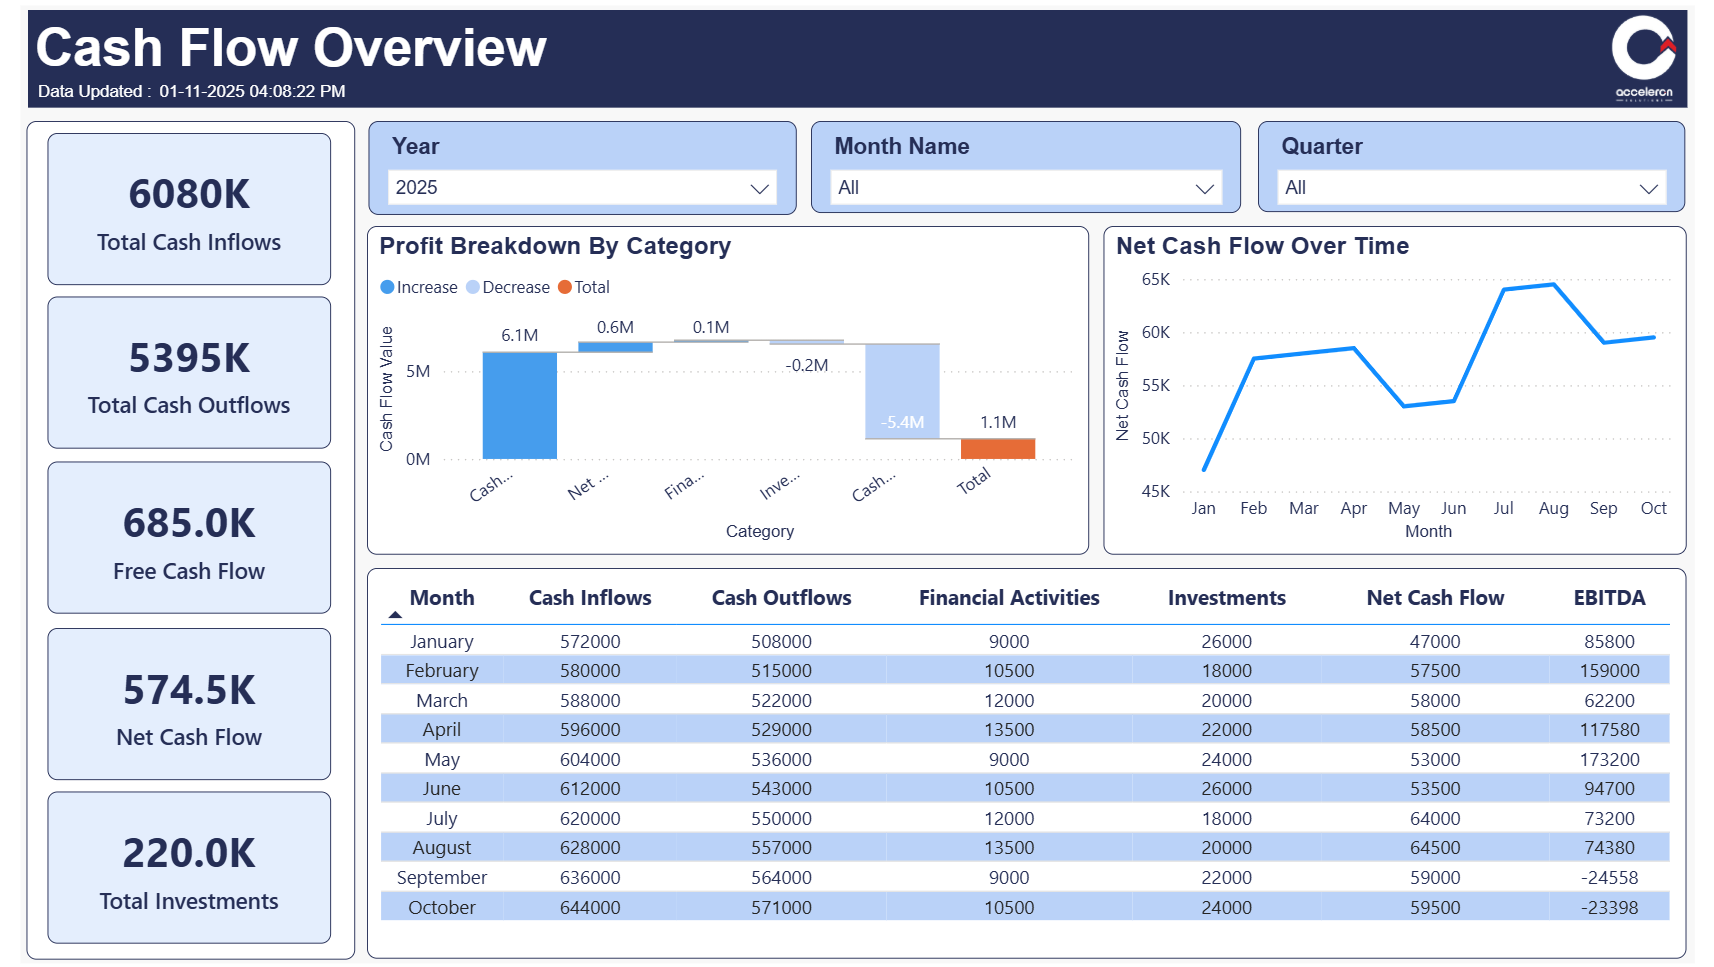

Layout of this report page (visuals, bound fields, positions):
{"tool":"powerbi","page":{"name":"Cash Flow Details","canvas":[1200,690],"ordinal":1},"visuals":[{"type":"textbox","box":[5.6,5.6,1188.8,680],"z":0},{"type":"textbox","box":[10.5,8.1,1178.2,69.4],"z":1000},{"type":"image","box":[1127.3,57,60.2,21.9],"z":2000},{"type":"image","box":[1127.3,5.5,60.2,59.4],"z":3000},{"type":"textbox","box":[13,49.5,95.8,29.2],"z":4000},{"type":"textbox","box":[98.6,49.5,157.4,31],"z":5000},{"type":"slicer","fields":{"Values":["Date.Year"]},"box":[251.9,87,303.7,66.7],"z":6000},{"type":"slicer","fields":{"Values":["Date.Month Name"]},"box":[566.7,87.5,305.6,65.3],"z":7000},{"type":"slicer","fields":{"Values":["Date.Quarter"]},"box":[884.2,87.7,303.5,64.9],"z":8000},{"type":"waterfallChart","title":"Profit Breakdown By Category","fields":{"Category":["Cash Flow Categories.Category"],"Y":["CashFlow.Cash Flow Value"]},"box":[251.8,161.6,512.5,233],"z":9000},{"type":"textbox","box":[9.5,87.2,233.1,595],"z":10000},{"type":"card","fields":{"Values":["Sum(CashFlow.Cash_Inflows)"]},"box":[25,95.5,201.4,107.7],"z":11000},{"type":"card","fields":{"Values":["Sum(CashFlow.Cash_Outflows)"]},"box":[25,212.3,201.4,107.7],"z":12000},{"type":"card","fields":{"Values":["CashFlow.Free Cash Flow"]},"box":[25,329.1,201.4,108.2],"z":13000},{"type":"card","fields":{"Values":["CashFlow.Net Cash Flow"]},"box":[25,446.8,201.4,108.2],"z":14000},{"type":"card","fields":{"Values":["Sum(CashFlow.Investments)"]},"box":[25,563.6,201.4,108.2],"z":15000},{"type":"lineChart","title":"Net Cash Flow Over Time","fields":{"Y":["CashFlow.Net Cash Flow"],"Category":["Date.Month Name"]},"box":[773.7,161.6,414.3,233],"z":16000},{"type":"tableEx","fields":{"Values":["CashFlow.Column.Variation.Date Hierarchy.Month","Sum(CashFlow.Cash_Inflows)","Sum(CashFlow.Cash_Outflows)","Sum(CashFlow.Financing_Activities)","Sum(CashFlow.Investments)","CashFlow.Net Cash Flow","Financials.EBITDA"]},"box":[251.5,404.5,936.4,277.3],"z":17000}]}

Visuals, with their boxes in screenshot pixels (x1, y1, x2, y2), scaled from the page's 1200x690 canvas onto the 1714x967 screenshot:
textbox: 8,8,1706,961
textbox: 15,11,1698,109
image: 1610,80,1696,111
image: 1610,8,1696,91
textbox: 19,69,155,110
textbox: 141,69,366,113
slicer - Date.Year: 360,122,794,215
slicer - Date.Month Name: 809,123,1246,214
slicer - Date.Quarter: 1263,123,1696,214
"Profit Breakdown By Category" waterfallChart: 360,226,1092,553
textbox: 14,122,347,956
card - Sum(CashFlow.Cash_Inflows): 36,134,323,285
card - Sum(CashFlow.Cash_Outflows): 36,298,323,448
card - CashFlow.Free Cash Flow: 36,461,323,613
card - CashFlow.Net Cash Flow: 36,626,323,778
card - Sum(CashFlow.Investments): 36,790,323,941
"Net Cash Flow Over Time" lineChart: 1105,226,1697,553
tableEx - CashFlow.Column.Variation.Date Hierarchy.Month x Sum(CashFlow.Cash_Inflows): 359,567,1697,956
